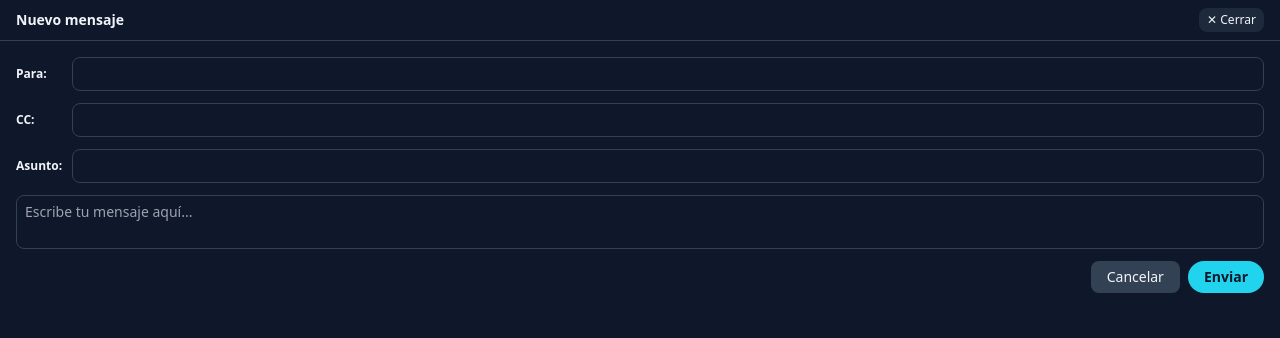
ComposePage — redacción y envío › envía normalizando destinatarios y recortando el asunto
Type " a@x.com , b@y.com " into the field next to "Para:" at (668, 74), box top-left (72, 57), bottom-right (1264, 91)
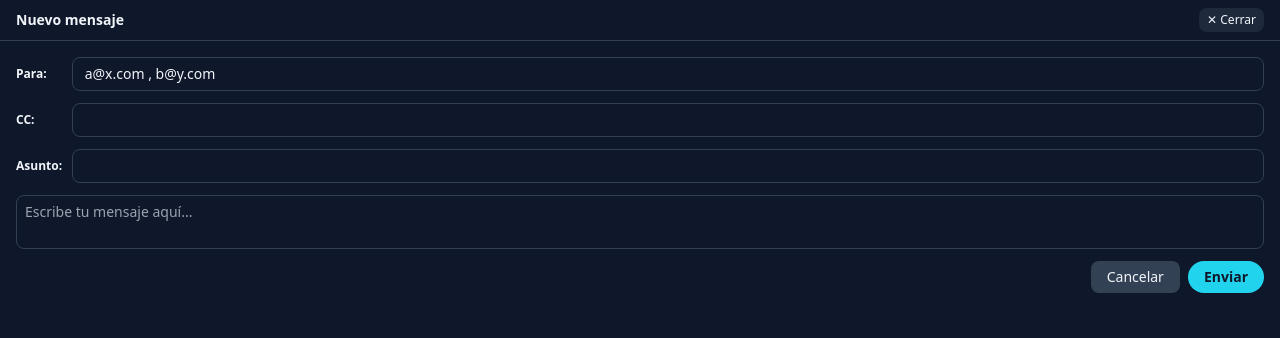
Type "  Asunto  " into the field next to "Asunto:" at (668, 166), box top-left (72, 149), bottom-right (1264, 183)
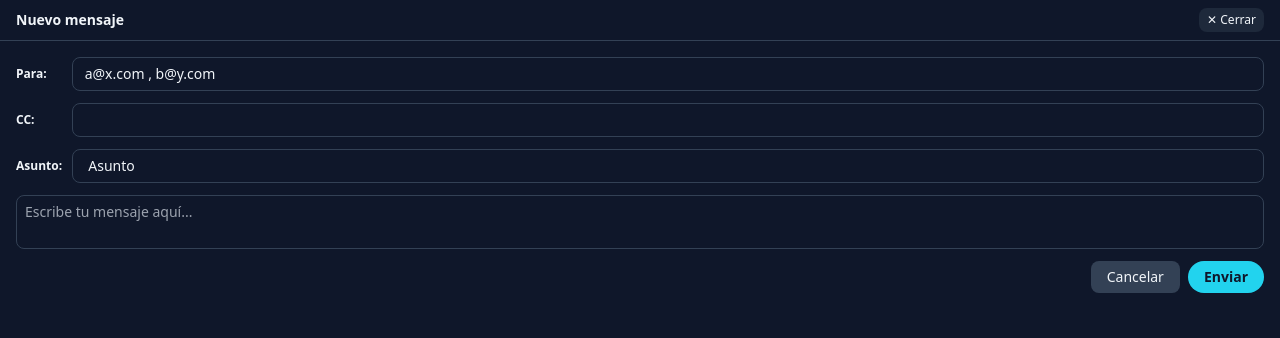
Type "Cuerpo del mensaje" into the text box with placeholder "Escribe tu mensaje aquí..." at (640, 222), box top-left (16, 195), bottom-right (1264, 249)
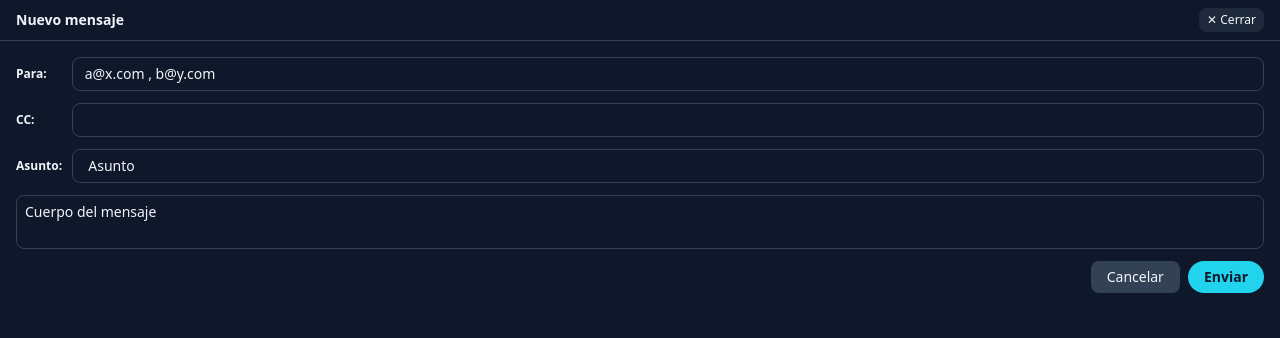
Click the button "Enviar" at (1226, 277), box top-left (1188, 261), bottom-right (1264, 293)
Wait 1600 ms
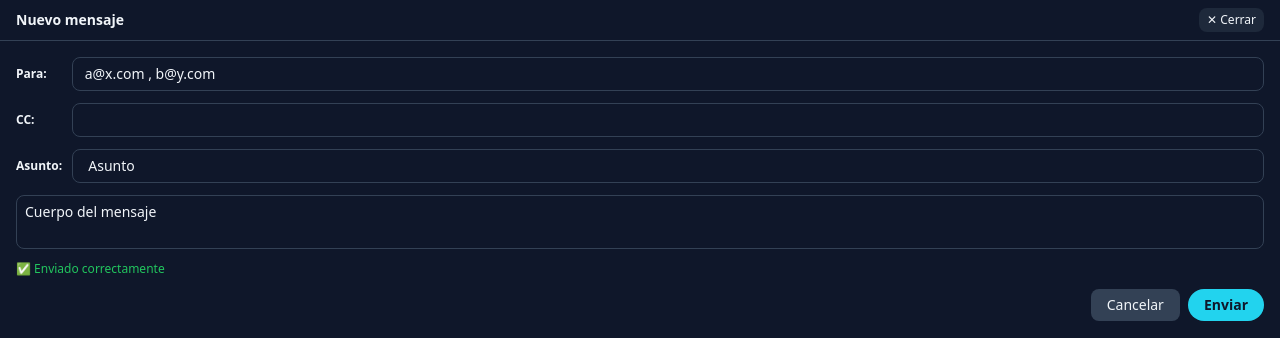
Expected: the text "✅ Enviado correctamente" is shown, top-left (16, 260), bottom-right (165, 277)
